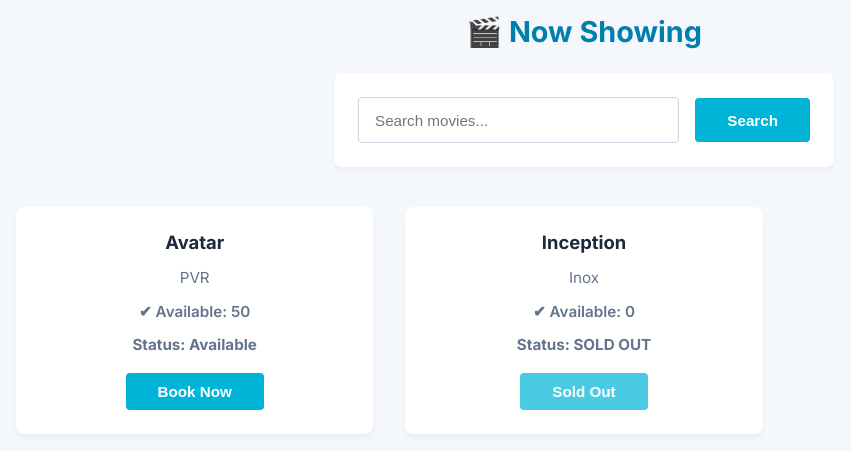
Movies Component › renders movies and handles searching
The width and height of the screenshot is (851, 451).
Expected: the heading "Avatar" is shown, [165,231,224,253]
Expected: the heading "Inception" is shown, [542,231,626,253]
Type in the search box
Type "Ava" into the field at (519, 120), box [358,97,679,143]
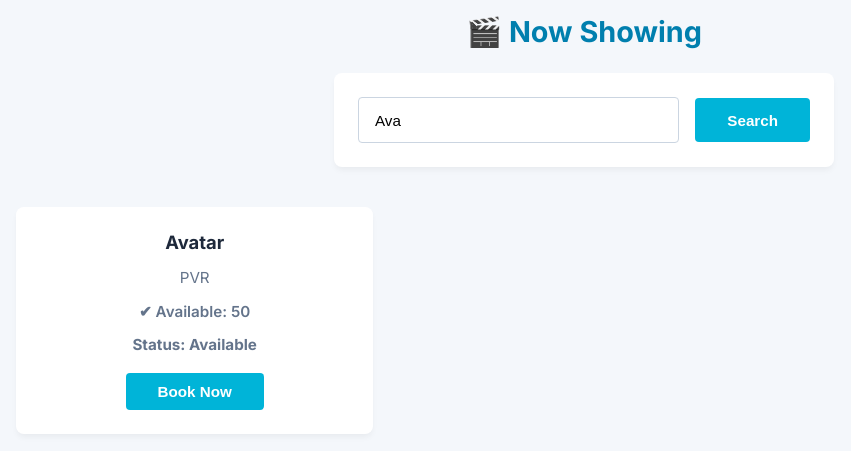
Expected: the heading "Avatar" is shown, [165,231,224,253]
Result: the heading "Inception" is gone
